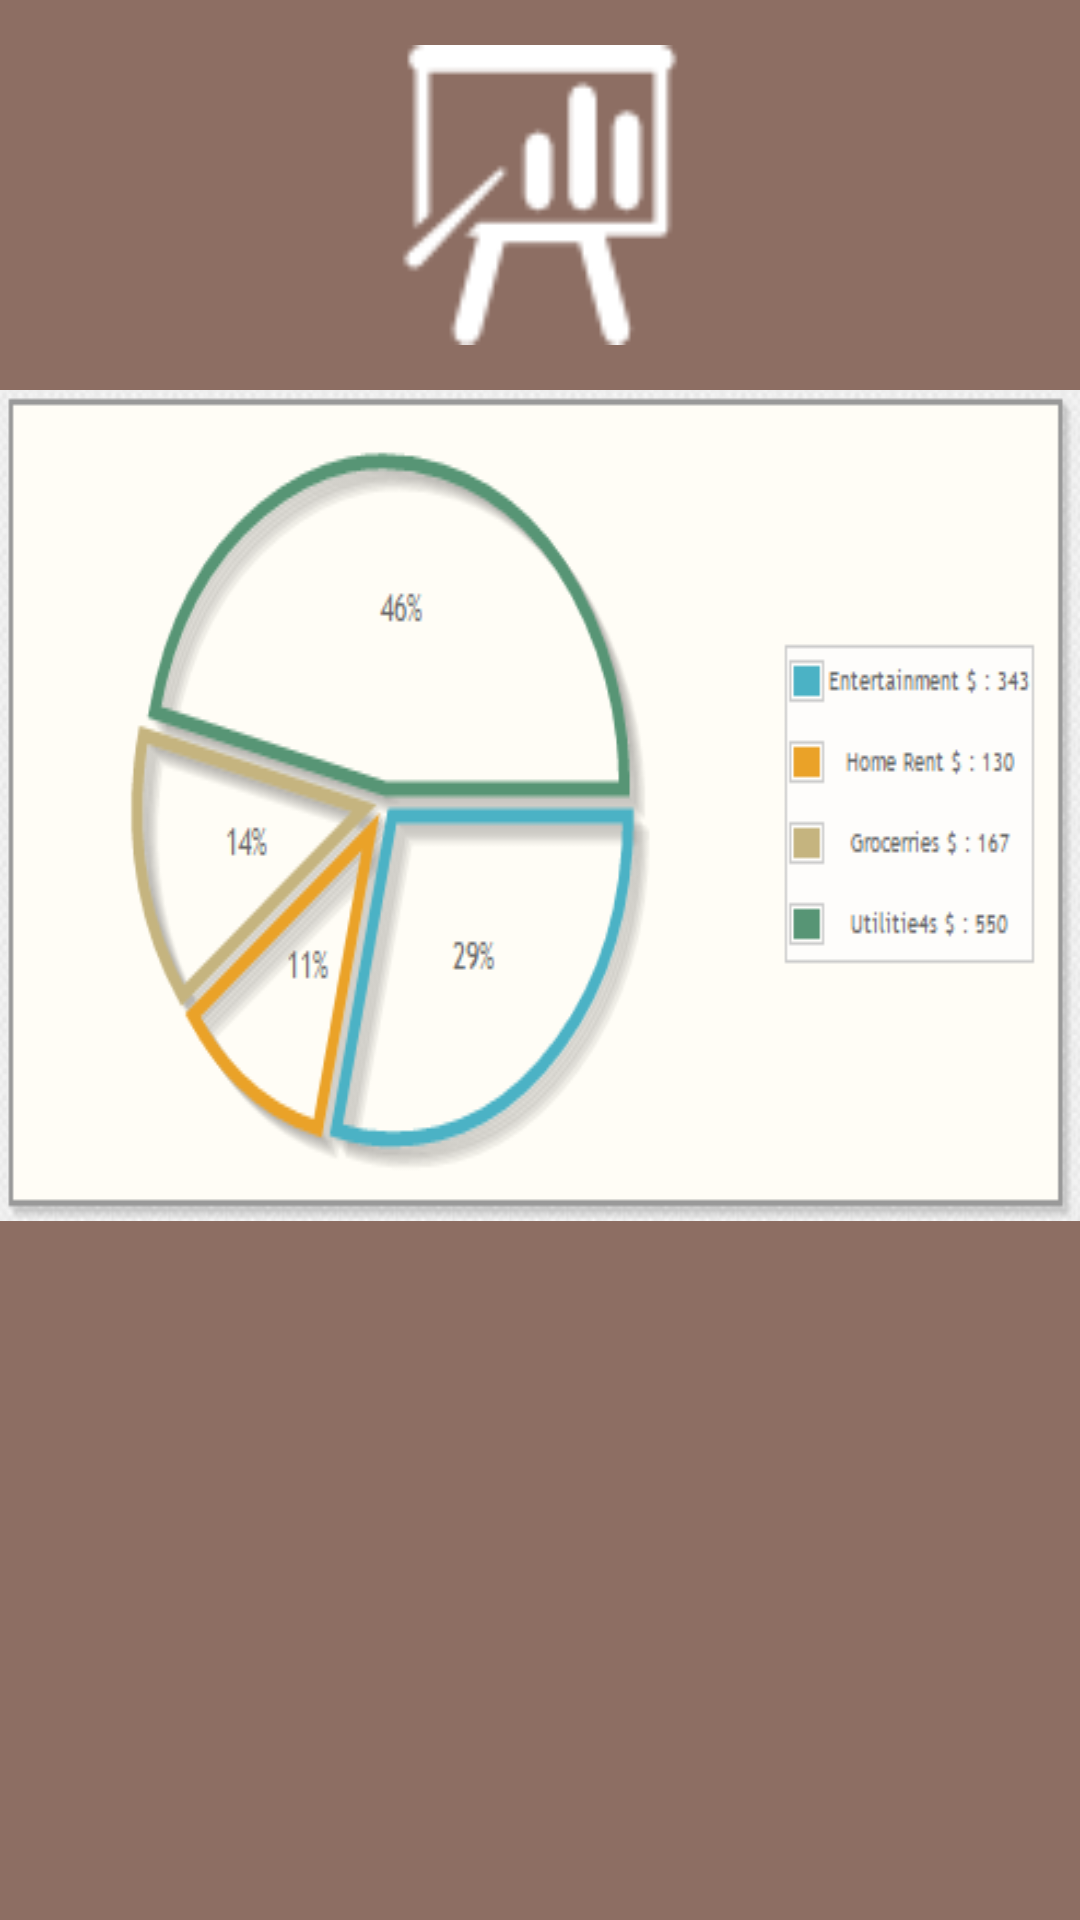

Locate icon controls on the screen. Image size 1080w x 1920h, boxes as BBox(x1, y1, x2, y2).
business: BBox(403, 45, 677, 345)
